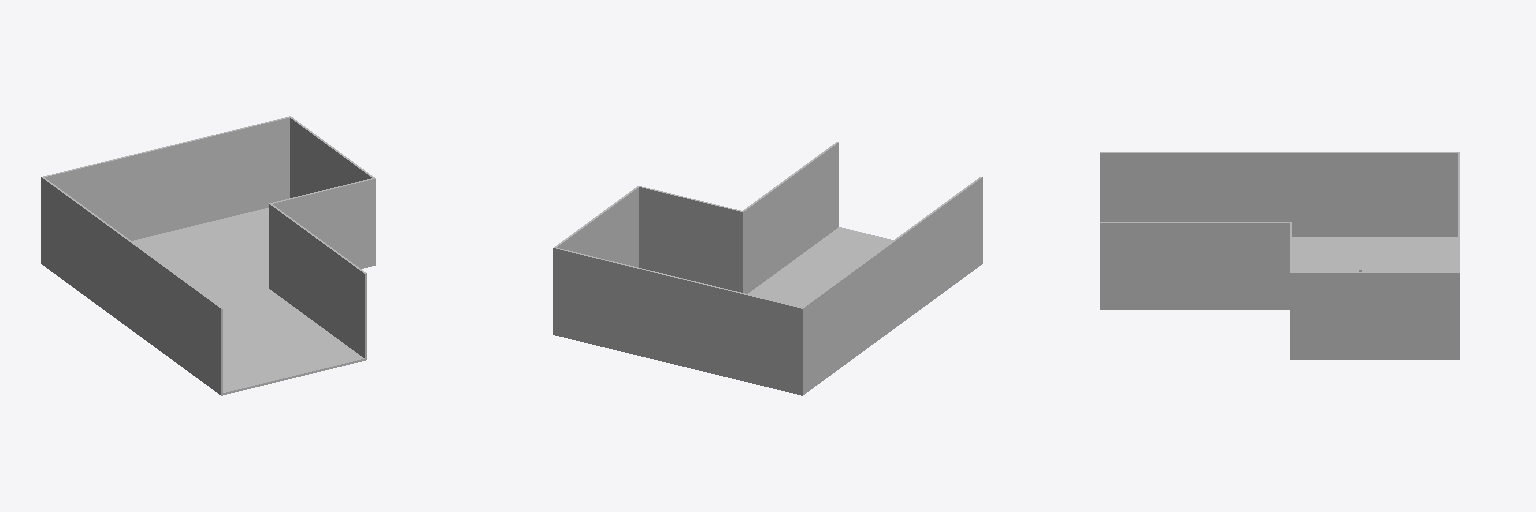
The model's file is escenario (1)-14.obj.
The picture shows the model from 3 angles: view 1: azimuth 30°, elevation 25°; view 2: azimuth 150°, elevation 25°; view 3: azimuth 270°, elevation 25°; orthographic projection.
Visible parts, largest first — view 1: object 1; view 2: object 1; view 3: object 1.
Part boxes in pixels (bbox=[...]): object 1: bbox=[41, 116, 375, 395]; object 1: bbox=[553, 142, 982, 395]; object 1: bbox=[1100, 152, 1459, 359].
Size of the model in its own units: 12 by 4 by 15.